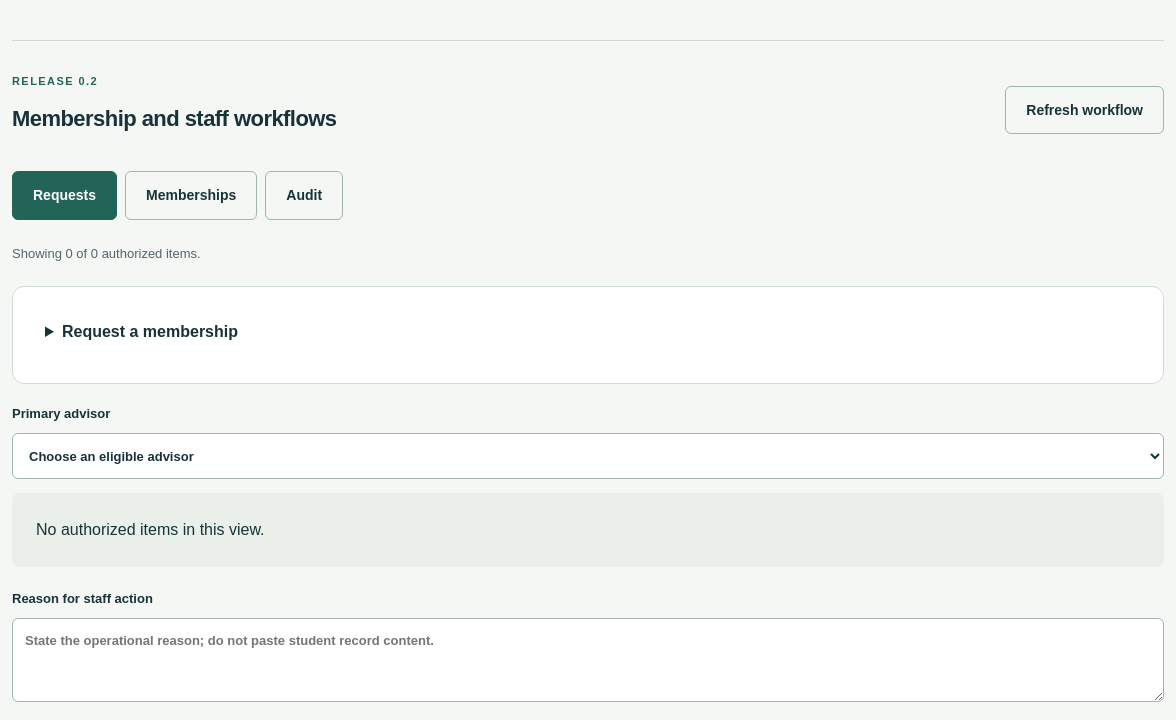
Scenario: keeps secretary enrollment separate from student records
The image size is (1176, 720).
Click the button "Memberships" at [191, 195], box [125,171,257,220]
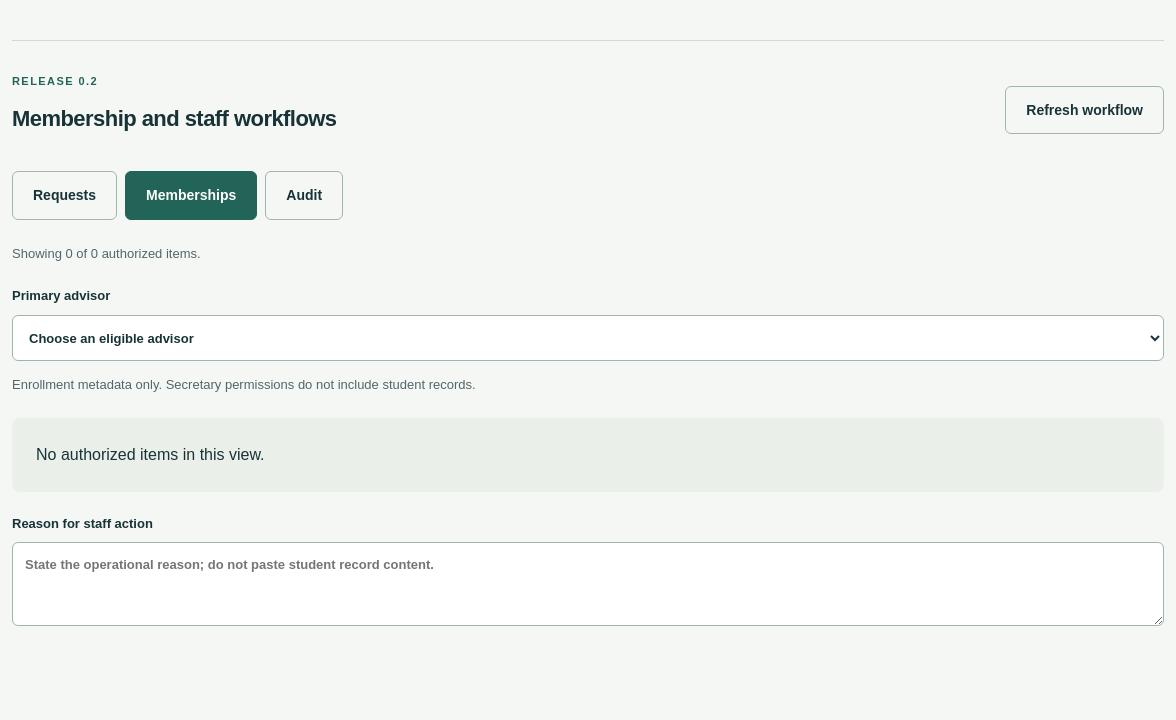
Expected: the text "Enrollment metadata only. Secretary permissions do not include student records." is shown, [12,377,476,392]
